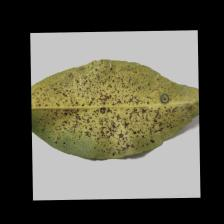canker: (64, 78, 170, 140)
